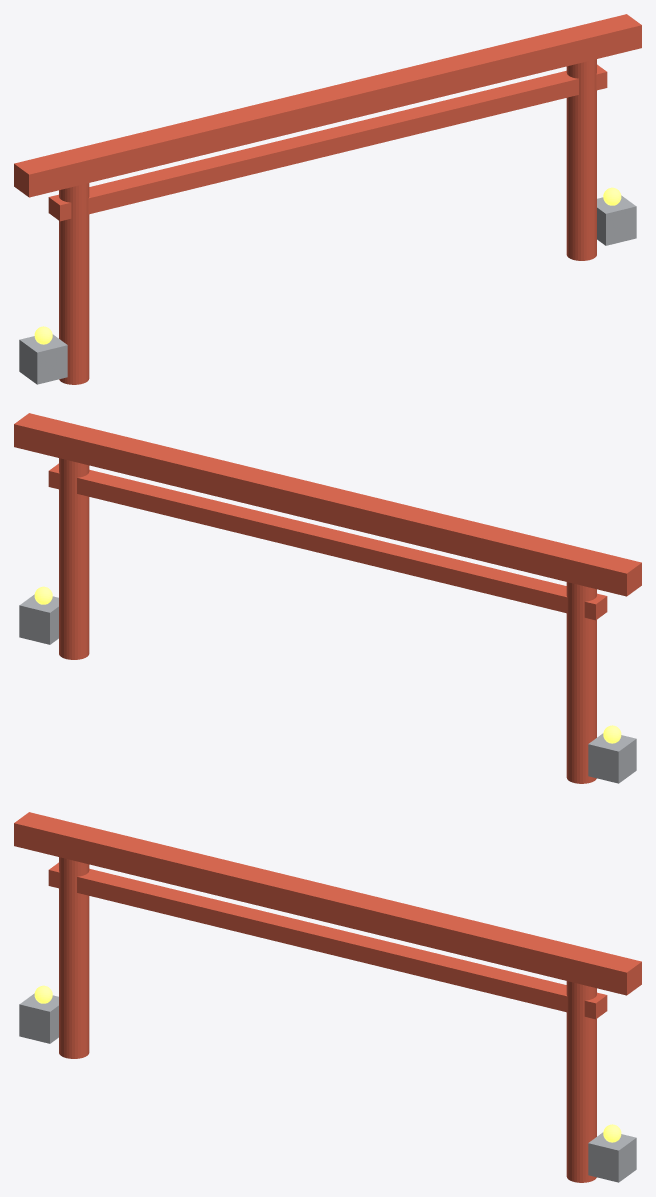
Rendered from env_shrine_arch.glb.
The picture shows the model from 3 angles, top to bottom: view 1: azimuth 30°, elevation 25°; view 2: azimuth 150°, elevation 25°; view 3: azimuth 330°, elevation 25°; orthographic projection.
Visible parts, largest first — view 1: Cube, Cube.001, Cylinder.001, Cylinder, Cube.002, Cube.003; view 2: Cube, Cube.001, Cylinder.001, Cylinder, Cube.002, Cube.003; view 3: Cube, Cube.001, Cylinder, Cylinder.001, Cube.003, Cube.002.
Boxes of the visible parts, x1=… form: Cube: x1=14, y1=14, x2=641, y2=197; Cube.001: x1=48, y1=64, x2=607, y2=221; Cylinder.001: x1=566, y1=59, x2=596, y2=260; Cylinder: x1=59, y1=183, x2=89, y2=384; Cube.002: x1=19, y1=334, x2=67, y2=384; Cube.003: x1=597, y1=195, x2=636, y2=245; Cube: x1=14, y1=413, x2=641, y2=596; Cube.001: x1=48, y1=463, x2=607, y2=620; Cylinder.001: x1=59, y1=458, x2=89, y2=659; Cylinder: x1=566, y1=582, x2=596, y2=783; Cube.002: x1=588, y1=733, x2=636, y2=783; Cube.003: x1=19, y1=594, x2=58, y2=644; Cube: x1=14, y1=812, x2=641, y2=995; Cube.001: x1=48, y1=862, x2=607, y2=1019; Cylinder: x1=59, y1=857, x2=89, y2=1058; Cylinder.001: x1=566, y1=981, x2=596, y2=1182; Cube.003: x1=588, y1=1132, x2=636, y2=1182; Cube.002: x1=19, y1=993, x2=58, y2=1043.
Bounding box in the file's own units: 14 × 4.85 × 0.7.
